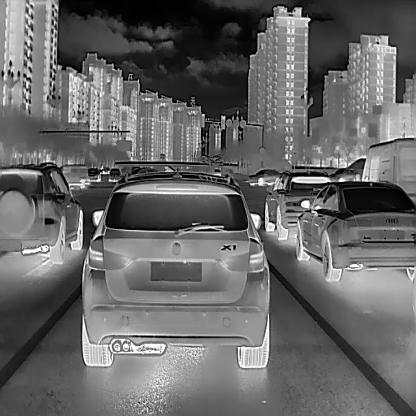car: (76, 165, 270, 372), (290, 178, 416, 284), (0, 158, 84, 263), (263, 166, 329, 240), (353, 134, 415, 207), (55, 162, 87, 189), (245, 166, 281, 187), (329, 164, 360, 183), (86, 165, 101, 182), (106, 166, 120, 182), (210, 166, 221, 176)
